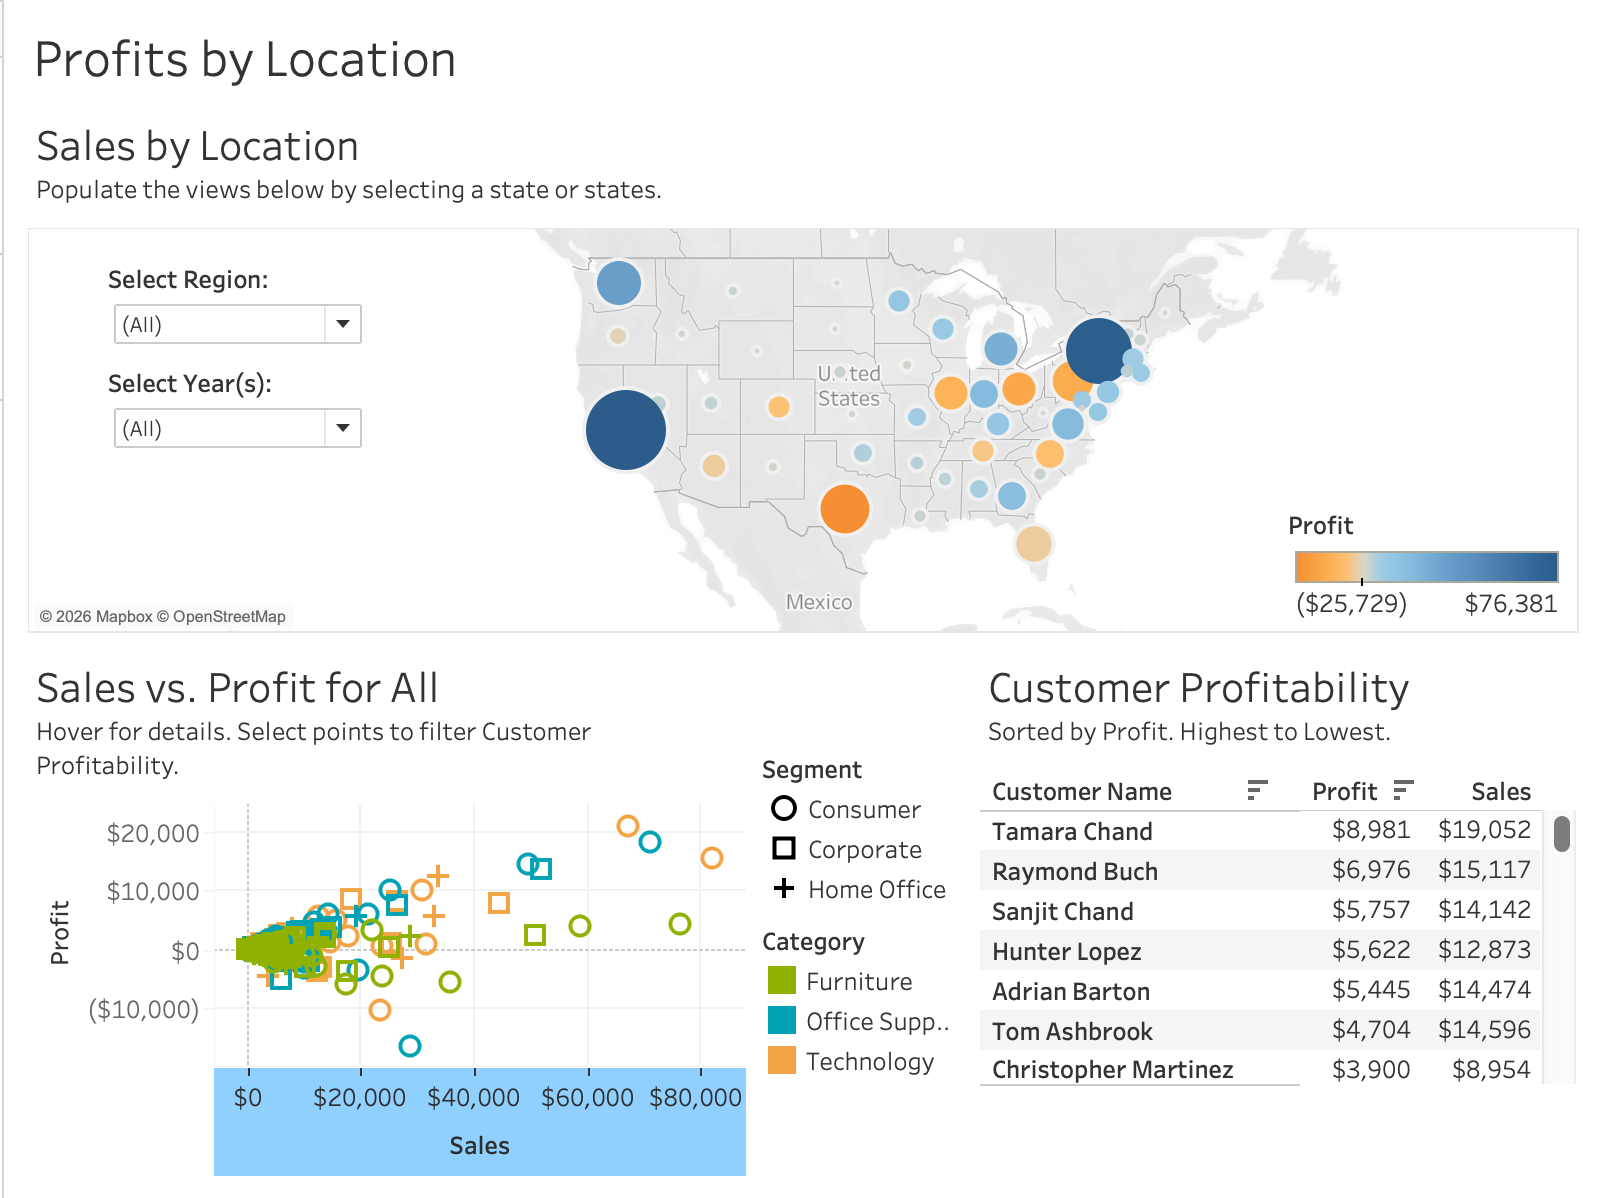

The dashboard page shown, as its layout file describes it:
{"tool":"tableau","page":{"name":"Profits by Location","canvas":[800,600],"ordinal":1},"visuals":[{"type":"title","box":[8,8,784,42]},{"type":"worksheet","title":"Sales by Location","mark":"Automatic","box":[8,50,784,271]},{"type":"filter","title":"Sales by Location","param":"[federated.0xrtodf0bijjoe15lna1d0ncx1xy].[none:Region:nk]","box":[48,127,138,52]},{"type":"filter","title":"Sales by Location","param":"[federated.0xrtodf0bijjoe15lna1d0ncx1xy].[yr:Order Date:ok]","box":[48,179,138,52]},{"type":"legend","title":"Sales by Location","param":"[federated.0xrtodf0bijjoe15lna1d0ncx1xy].[sum:Profit:qk]","box":[642,254,140,57]},{"type":"worksheet","title":"Sales vs. Profit","mark":"Automatic","rows":["Profit"],"cols":["Sales"],"box":[8,321,367,271]},{"type":"blank","box":[375,321,109,51]},{"type":"worksheet","title":"Customer Profitability","mark":"Automatic","rows":["Customer Name"],"box":[484,321,308,271]},{"type":"legend","title":"Sales vs. Profit","param":"[federated.0xrtodf0bijjoe15lna1d0ncx1xy].[none:Segment:nk]","box":[375,372,109,86]},{"type":"legend","title":"Sales vs. Profit","param":"[federated.0xrtodf0bijjoe15lna1d0ncx1xy].[none:Category:nk]","box":[375,458,109,86]}]}

Visuals, with their boxes in screenshot pixels (x1, y1, x2, y2), scaled from the page's 800x600 canvas onto the 1604x1198 screenshot:
title: [16, 16, 1588, 100]
"Sales by Location" worksheet: [16, 100, 1588, 641]
"Sales by Location" filter: [96, 254, 373, 357]
"Sales by Location" filter: [96, 357, 373, 461]
"Sales by Location" legend: [1287, 507, 1568, 621]
"Sales vs. Profit" worksheet: [16, 641, 752, 1182]
blank: [752, 641, 970, 743]
"Customer Profitability" worksheet: [970, 641, 1588, 1182]
"Sales vs. Profit" legend: [752, 743, 970, 914]
"Sales vs. Profit" legend: [752, 914, 970, 1086]
